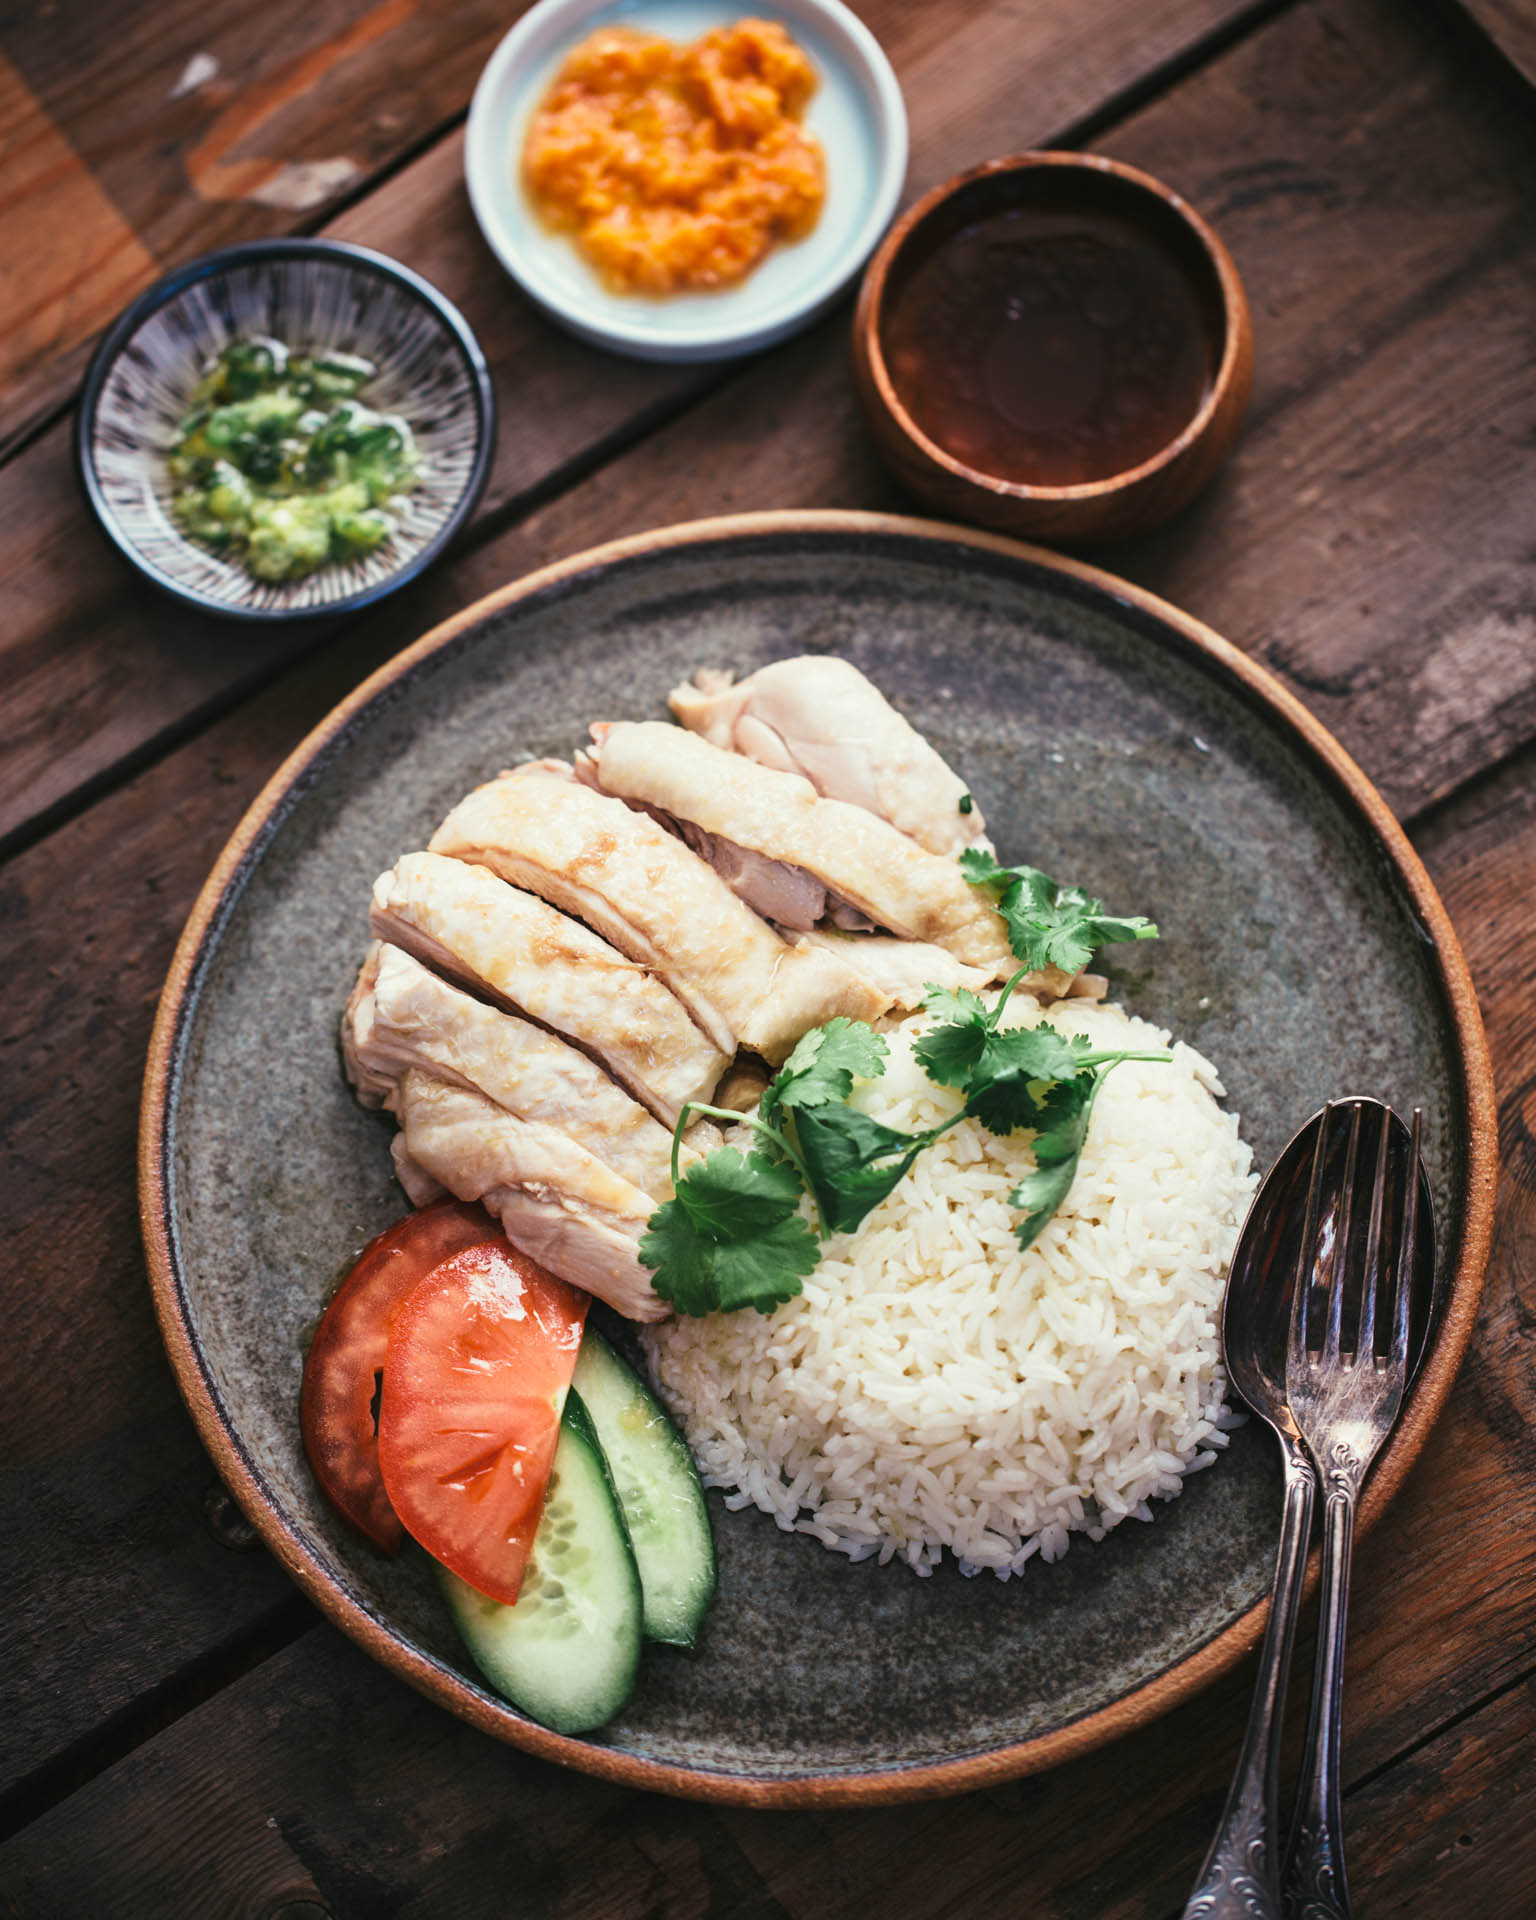Steamed Chicken Rice: (306, 652, 1266, 1538)
